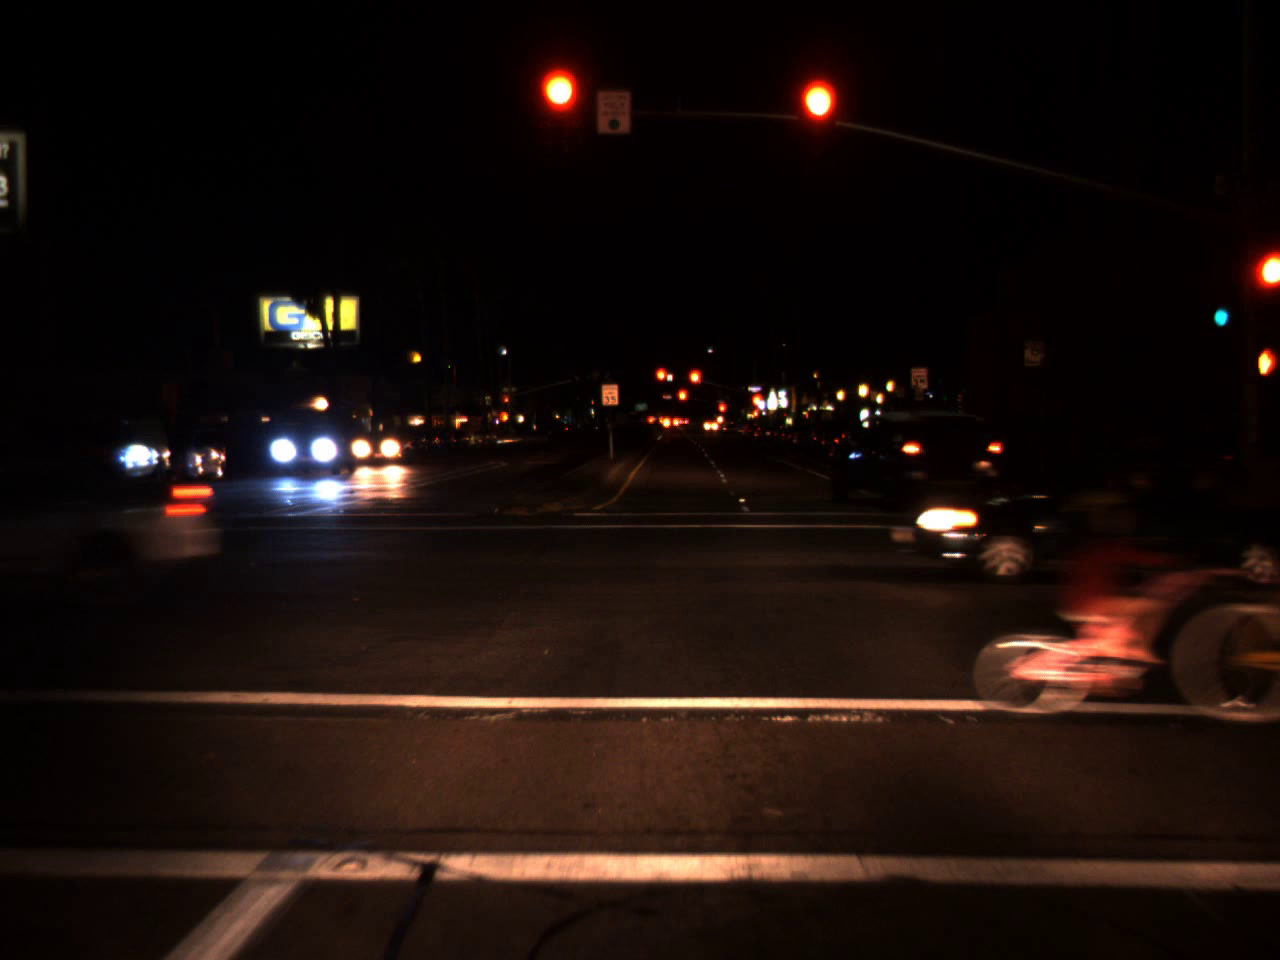stop: (540, 71, 579, 149), (800, 81, 836, 159), (1260, 254, 1280, 313), (749, 390, 765, 425), (653, 366, 671, 395), (687, 367, 702, 399), (677, 387, 689, 414), (714, 401, 727, 422), (503, 397, 509, 407)
